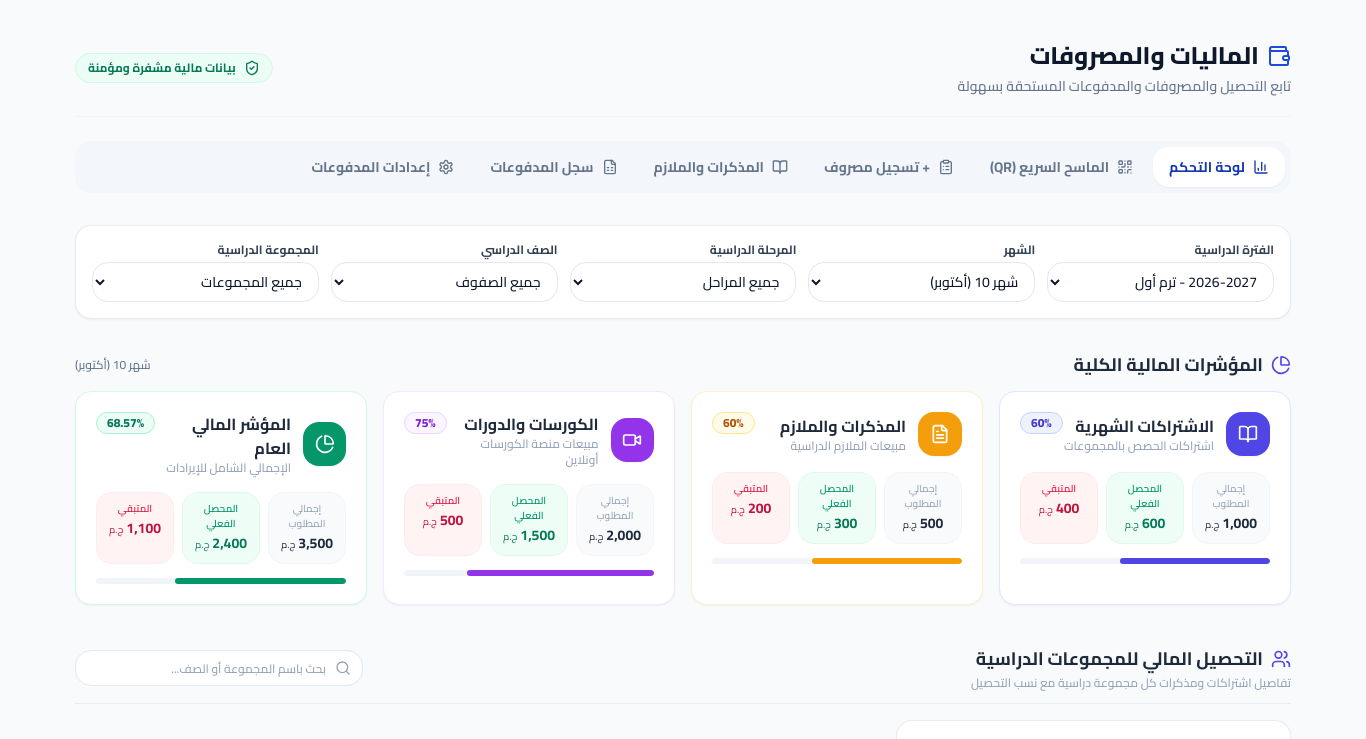
it: FinanceDashboard › allows opening manual payment recording modal
The width and height of the screenshot is (1366, 739).
Note: Switch to manual recording
Click the button "+ تسجيل مصروف" at [889, 167], box [808,147,970,187]
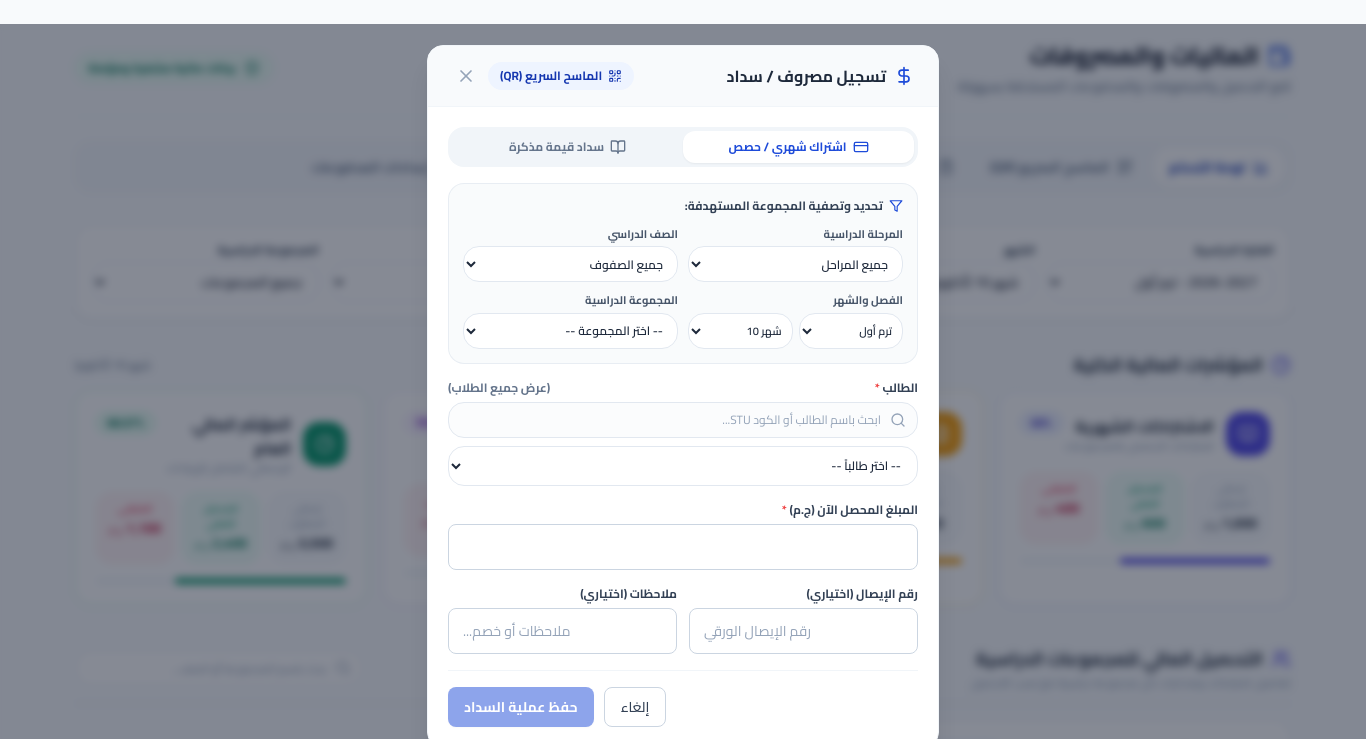
Now the heading "تسجيل مصروف / سداد" is shown, box [726,64,914,88]
